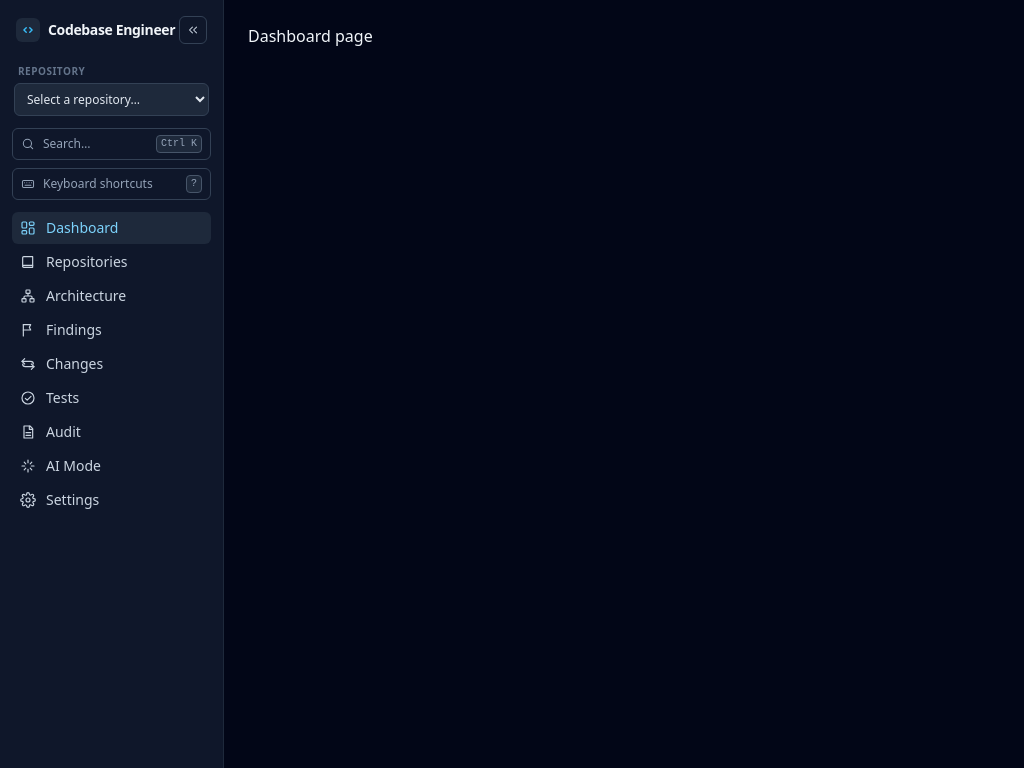
CommandPalette (Ctrl/Cmd+K) — the palette itself stays; only its theme-toggle command was removed › opens via the custom open event (the visible Search button's mechanism)
The width and height of the screenshot is (1024, 768).
Step 1. Click the button titled "Search (⌘K)" → (112, 144), box [12,128,211,160]
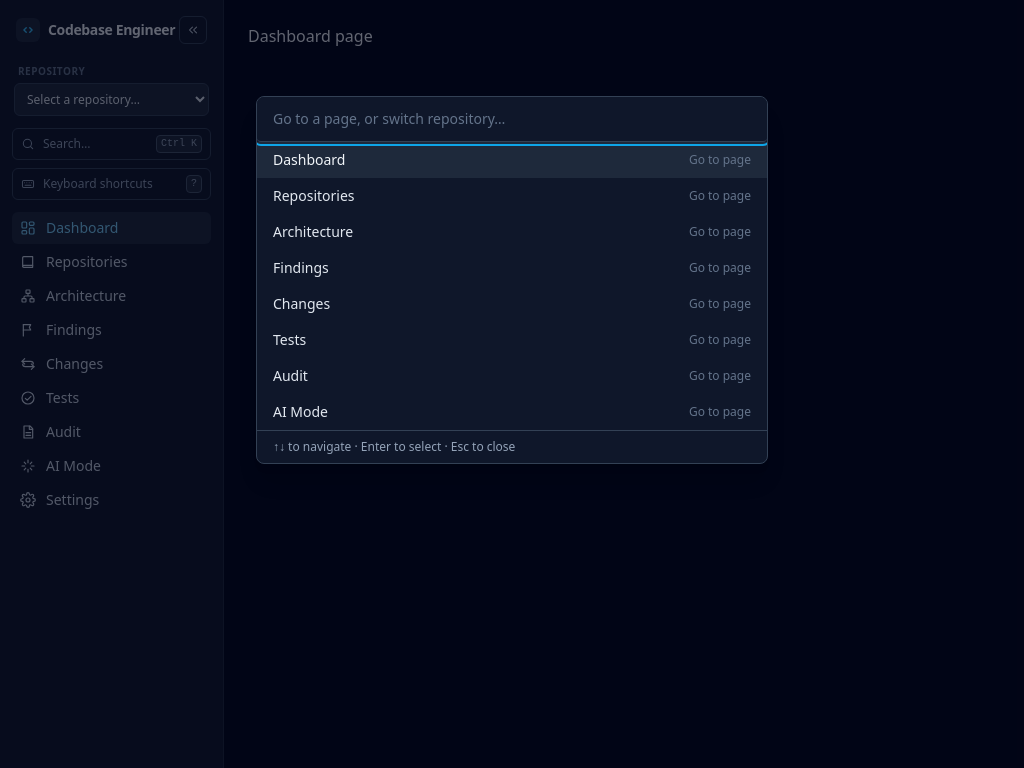
Expected: the field named "Command palette search" is shown, [257,97,767,142]
